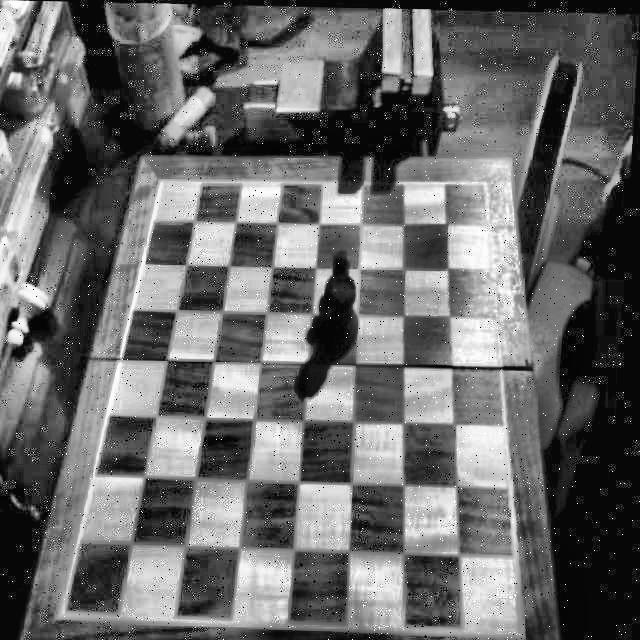black-pawn: (323, 254, 360, 307)
black-rook: (324, 280, 365, 357)
